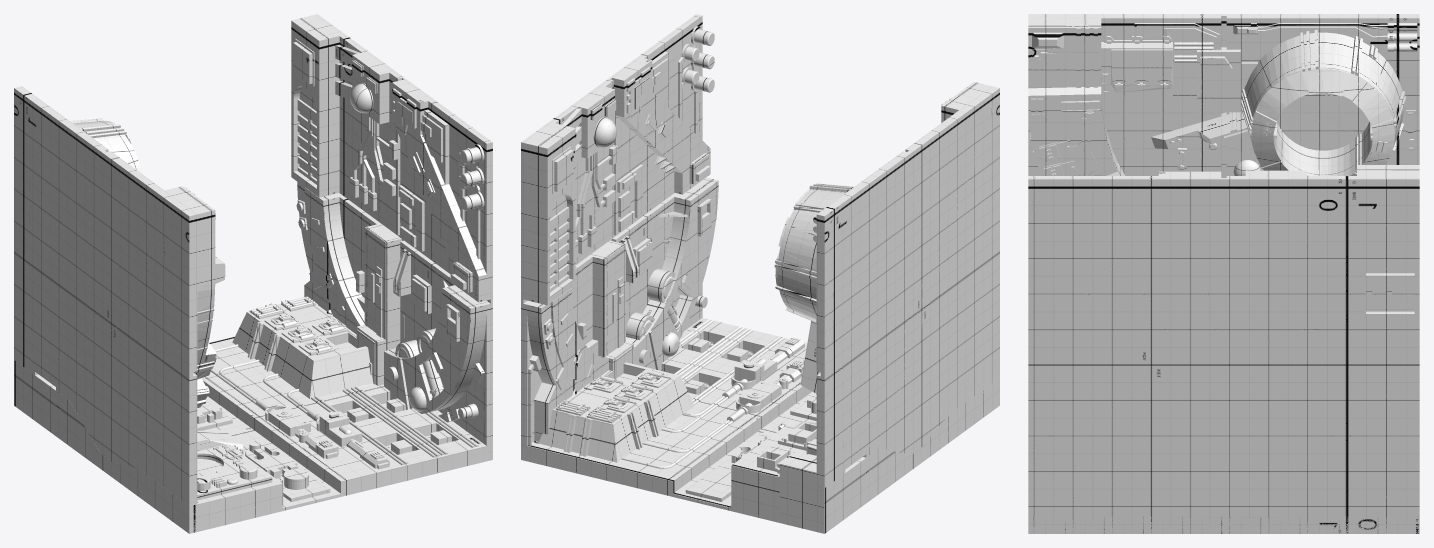
The model's file is LevelB.fbx.
The picture shows the model from 3 angles, left to right: view 1: azimuth 30°, elevation 25°; view 2: azimuth 150°, elevation 25°; view 3: azimuth 270°, elevation 25°; orthographic projection. The views are drawn at different scales.
Visible parts, largest first — view 1: b; view 2: b; view 3: b.
Part boxes in pixels (box(x1,y1,x2,y2)): b: box(14, 14, 492, 533); b: box(521, 14, 999, 533); b: box(1028, 14, 1419, 533).
Bounding box in the file's own units: 7500 × 7500 × 7500.
